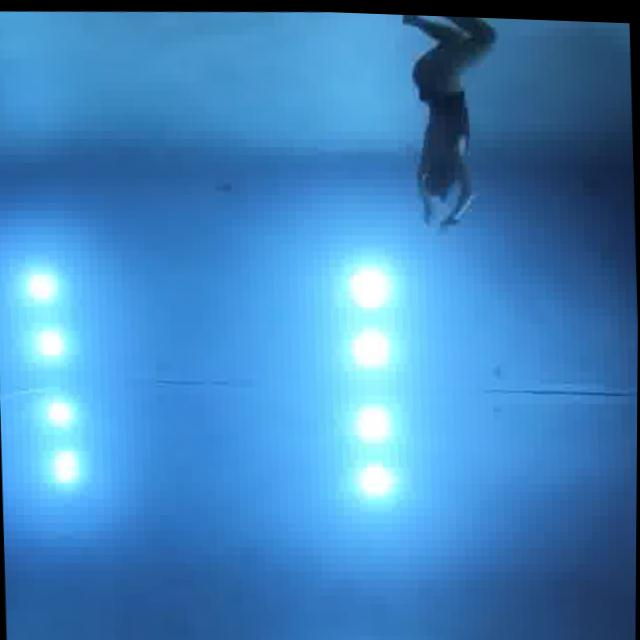human: (394, 11, 505, 236)
